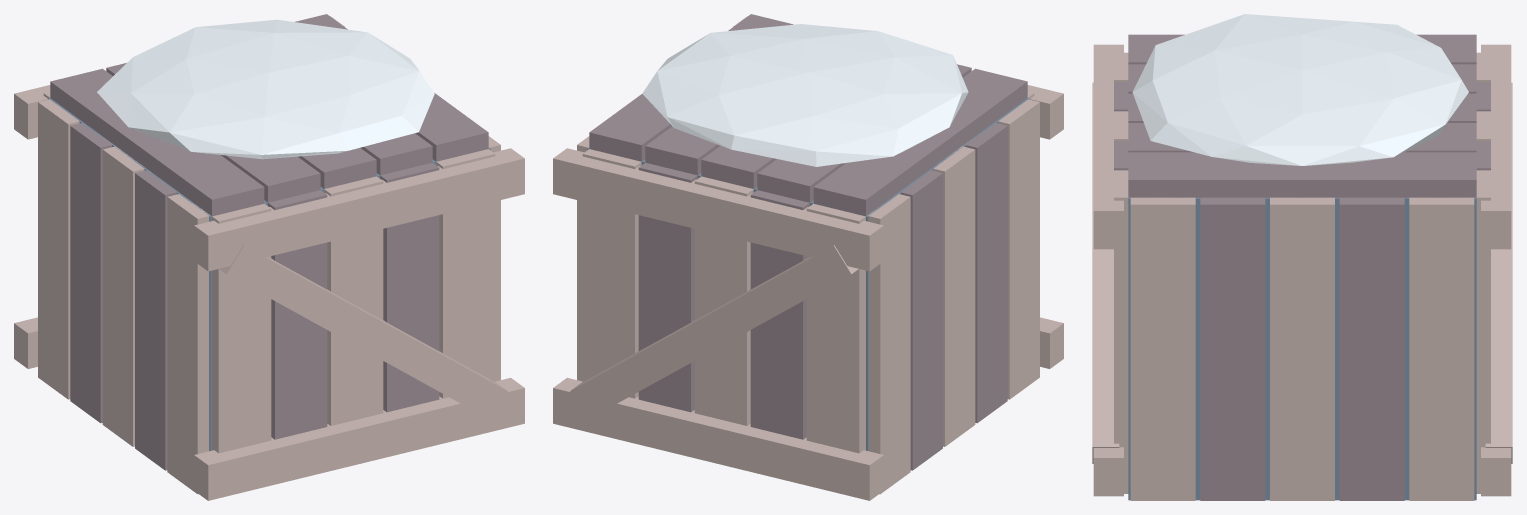
File: cover-crate-snowy.glb
3 renders of one model, left to right at view 1: azimuth 30°, elevation 25°; view 2: azimuth 150°, elevation 25°; view 3: azimuth 270°, elevation 25°, orthographic. The views are drawn at different scales.
Parts seen in each view (by area): view 1: cover-crate-kit-snowy-end, cover-crate-kit-snowy-wood, cover-crate-kit-snowy-top, cover-crate-kit-snowy-shade; view 2: cover-crate-kit-snowy-end, cover-crate-kit-snowy-wood, cover-crate-kit-snowy-top, cover-crate-kit-snowy-shade; view 3: cover-crate-kit-snowy-end, cover-crate-kit-snowy-wood, cover-crate-kit-snowy-top, cover-crate-kit-snowy-shade.
Part boxes in pixels (<box>): cover-crate-kit-snowy-end: <box>14,16,524,500</box>; cover-crate-kit-snowy-wood: <box>50,14,488,470</box>; cover-crate-kit-snowy-top: <box>97,19,434,159</box>; cover-crate-kit-snowy-shade: <box>48,98,490,450</box>; cover-crate-kit-snowy-end: <box>553,16,1063,500</box>; cover-crate-kit-snowy-wood: <box>589,14,1027,470</box>; cover-crate-kit-snowy-top: <box>642,24,968,166</box>; cover-crate-kit-snowy-shade: <box>587,98,1029,450</box>; cover-crate-kit-snowy-end: <box>1092,44,1512,500</box>; cover-crate-kit-snowy-wood: <box>1114,34,1490,500</box>; cover-crate-kit-snowy-top: <box>1132,14,1468,165</box>; cover-crate-kit-snowy-shade: <box>1128,197,1476,500</box>.
Size of the model in its own units: 1.3 by 1.3 by 1.39.
